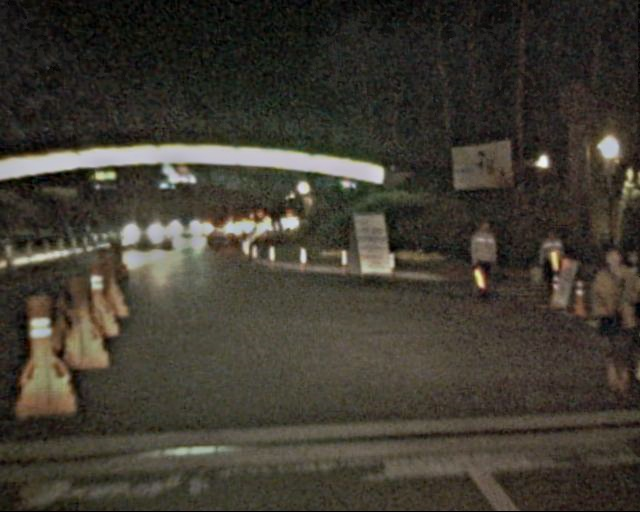person: (574, 246, 640, 395), (464, 218, 500, 305), (536, 227, 569, 300)
